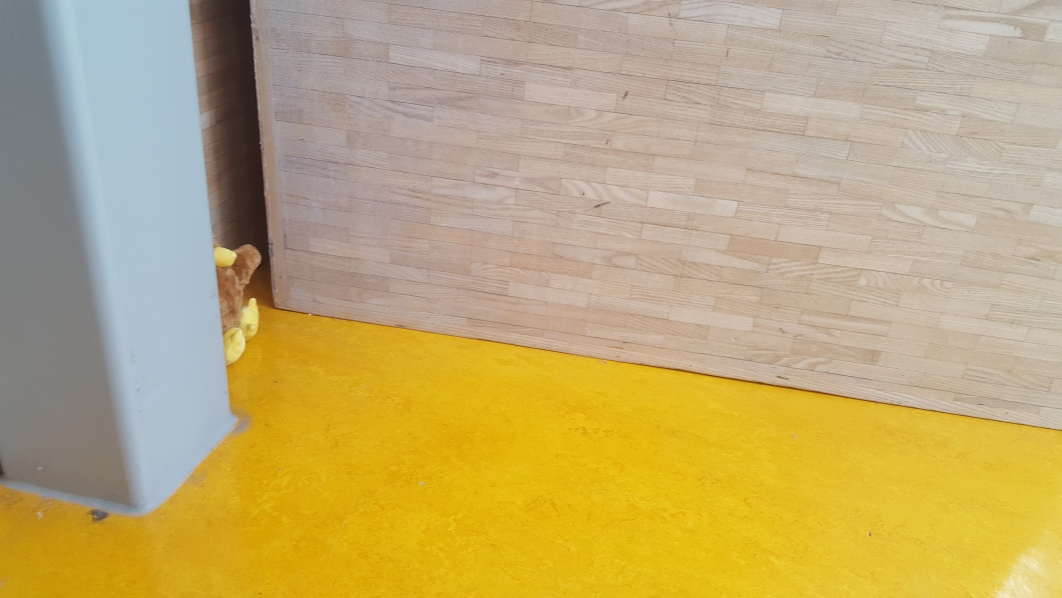chicken: (209, 226, 267, 390)
